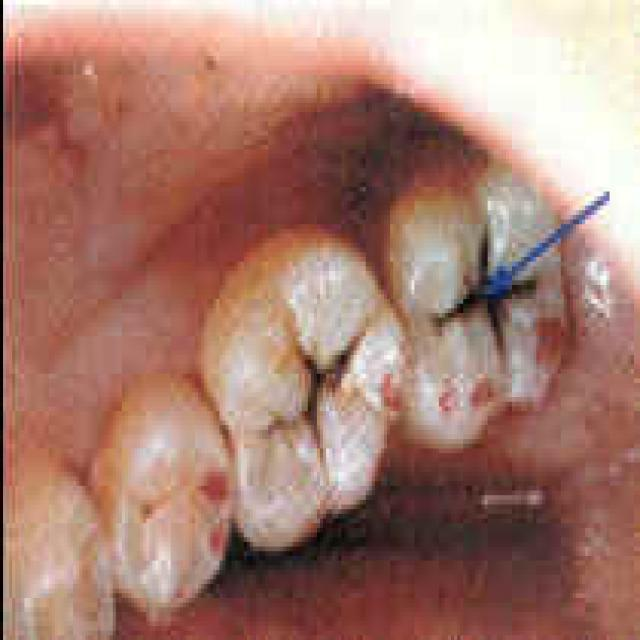caries: (433, 239, 555, 388), (256, 313, 357, 472)
